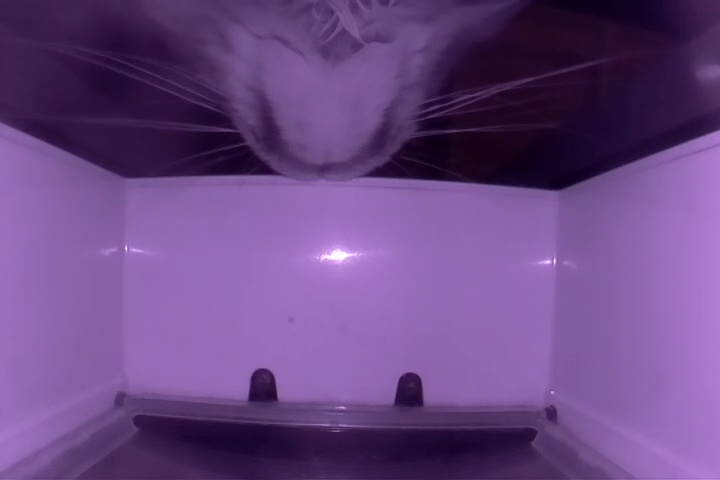Snout: (239, 87, 415, 182)
